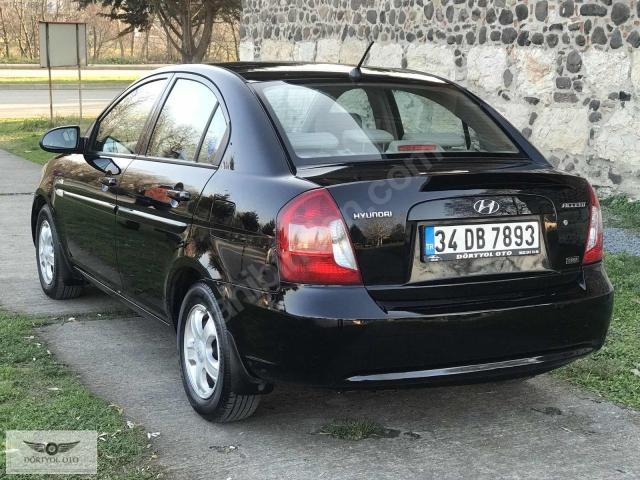plaka: (423, 219, 542, 262)
